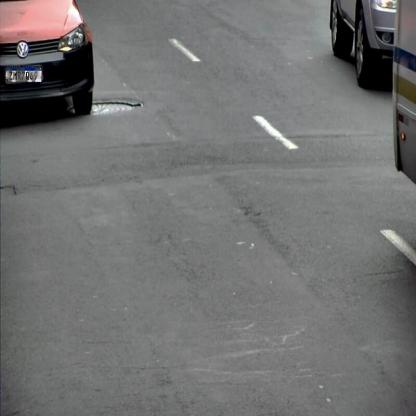PlacaM: (5, 66, 42, 82)
